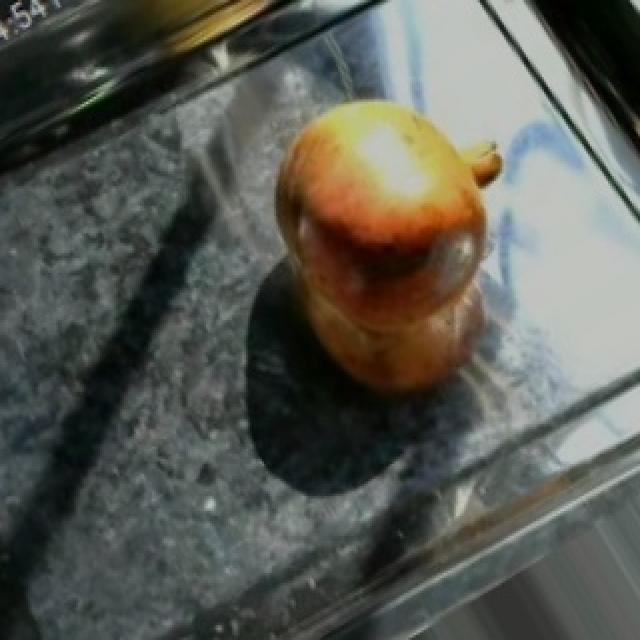fruit: (240, 62, 528, 342)
